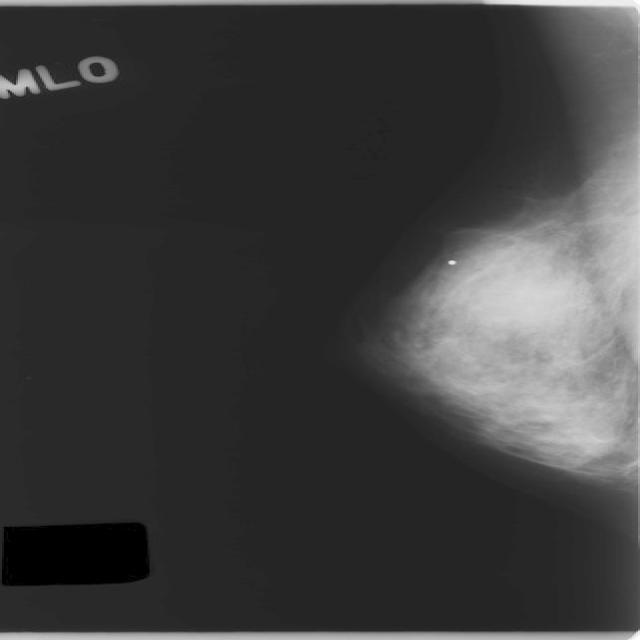tumour: (449, 256, 584, 332)
